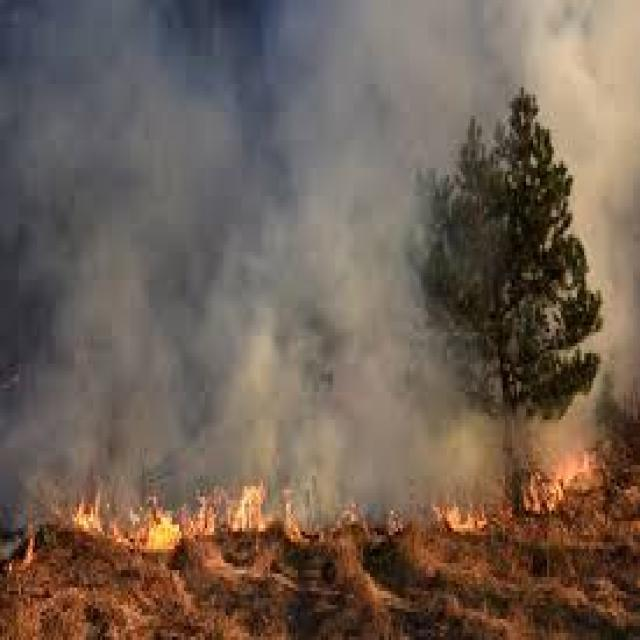Fire: (529, 432, 599, 515), (132, 498, 186, 564), (272, 483, 318, 560), (73, 480, 124, 549), (436, 498, 492, 550), (9, 524, 46, 582), (230, 480, 267, 537), (186, 488, 219, 544)
Smoke: (0, 0, 410, 465)
